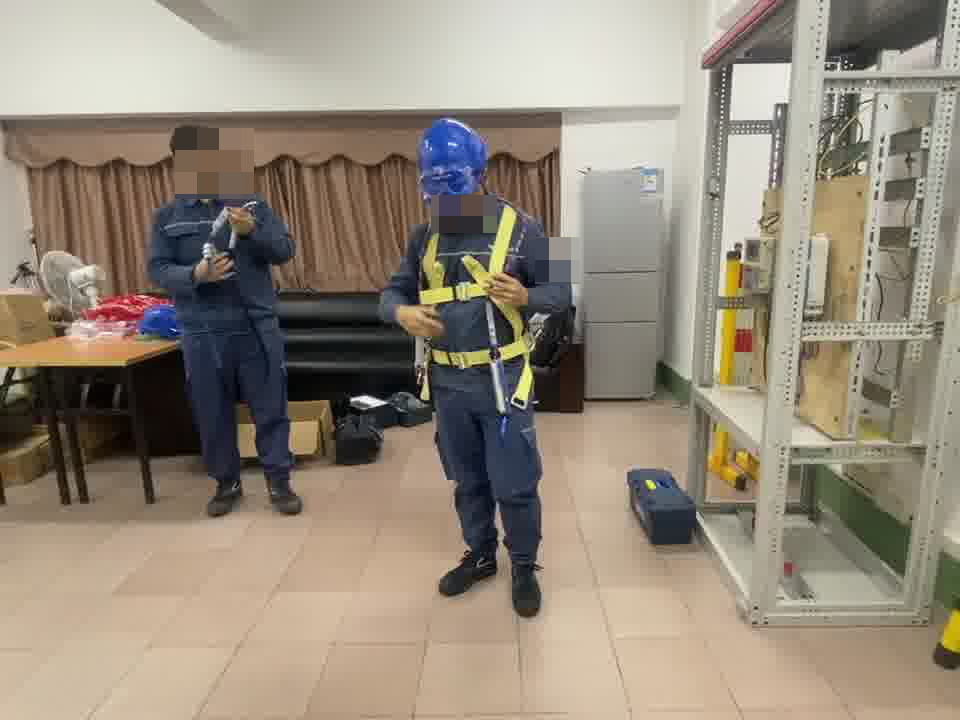downsuit: (435, 395, 543, 564), (183, 334, 296, 484)
halt: (417, 119, 490, 215)
hand: (396, 301, 444, 342), (482, 274, 528, 308), (194, 249, 236, 283), (222, 203, 257, 237)
person: (378, 115, 572, 616), (146, 122, 305, 512)
safebelt: (416, 194, 548, 446)
unhalt: (170, 124, 227, 189)
upsuit: (379, 198, 569, 354), (149, 186, 293, 318)
